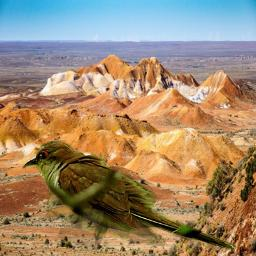Cuckoo: (22, 140, 238, 252)
